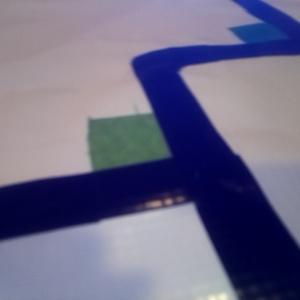top_left: (88, 113, 207, 202), (229, 23, 300, 55)
